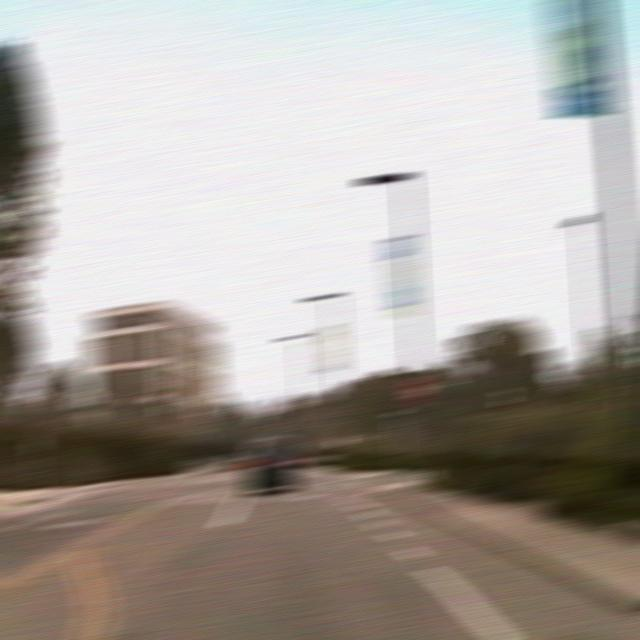stop_sign: (402, 377, 434, 406)
